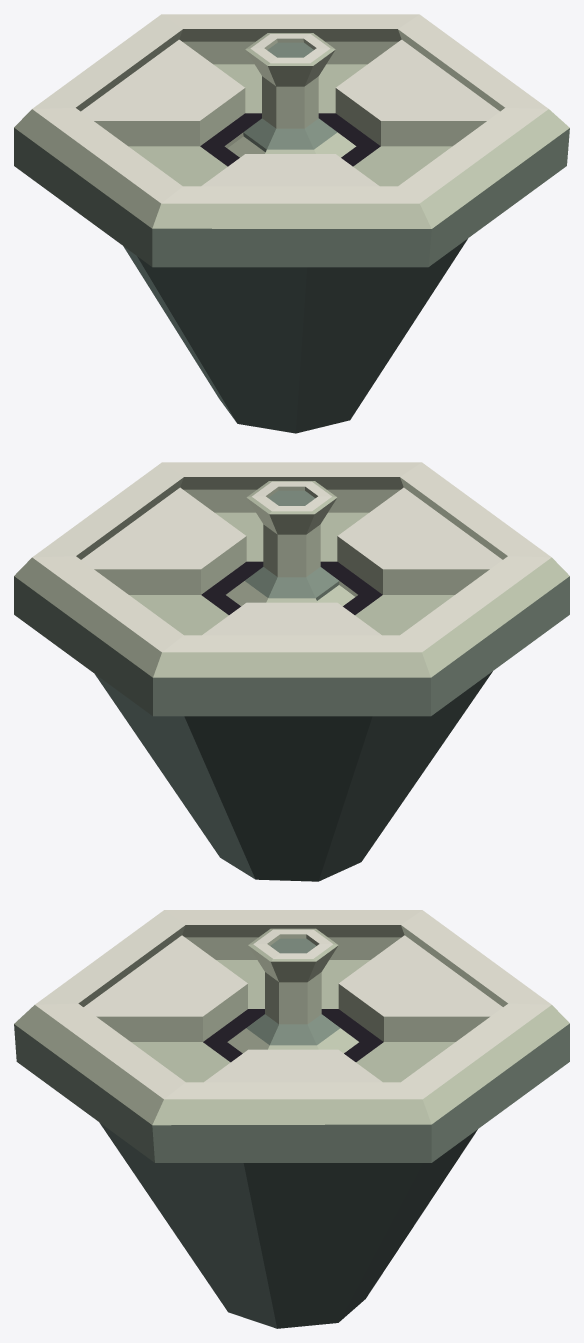
File: Objective.fbx
3 renders of one model, top to bottom at view 1: azimuth 30°, elevation 25°; view 2: azimuth 150°, elevation 25°; view 3: azimuth 270°, elevation 25°, orthographic.
Visible parts, largest first — view 1: Cylinder, Booster; view 2: Cylinder, Booster; view 3: Cylinder, Booster.
Part boxes in pixels (box(x1,y1,x2,y2)): Cylinder: box(14, 14, 569, 267); Booster: box(123, 238, 467, 433); Cylinder: box(14, 462, 569, 716); Booster: box(95, 671, 492, 881); Cylinder: box(14, 910, 569, 1162); Booster: box(99, 1122, 477, 1328).
Size of the model in its own units: 348 by 283 by 402.
Materials: 2 (2 with a texture image).
